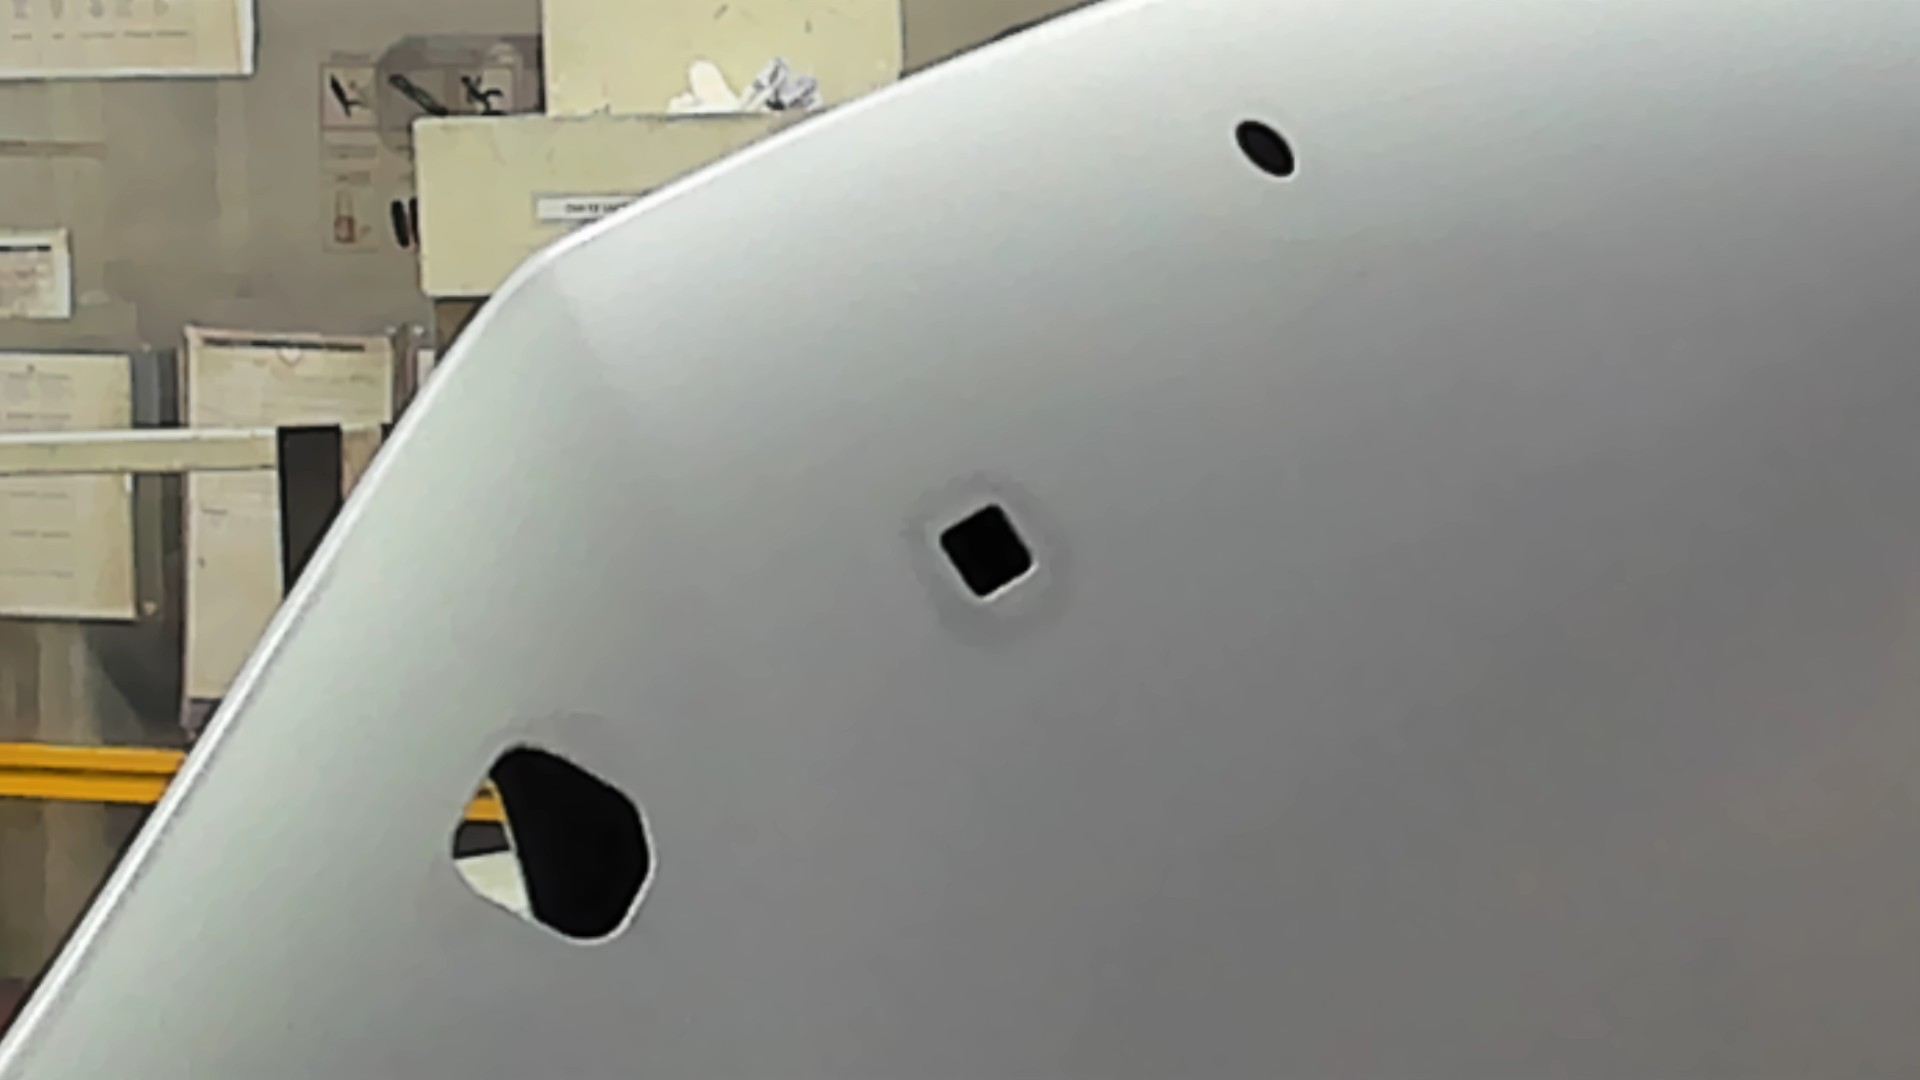chico: (1233, 117, 1299, 179)
grande: (448, 741, 658, 949)
mediano: (935, 501, 1040, 603)
